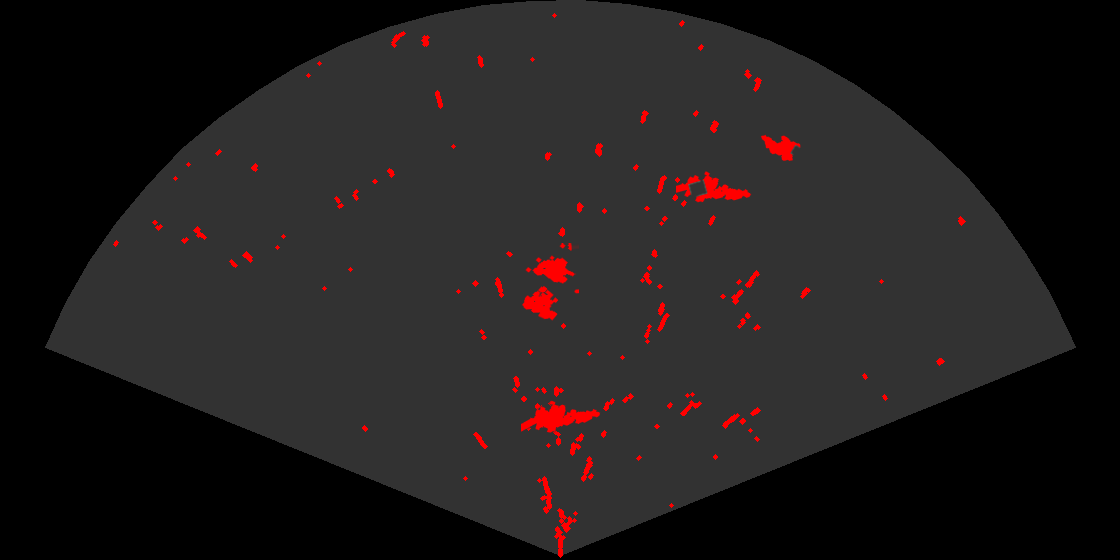AUV: (759, 133, 802, 163)
cage: (521, 243, 579, 322)
frogman: (521, 399, 602, 434), (676, 170, 753, 204)
